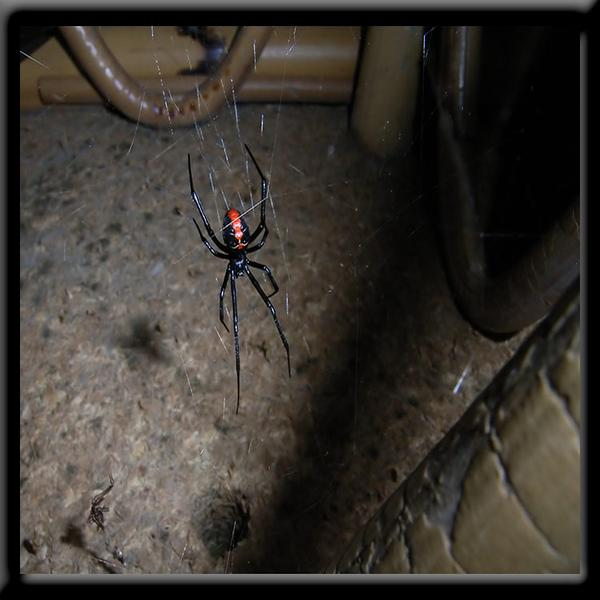Redback Spider: (183, 147, 298, 410)
